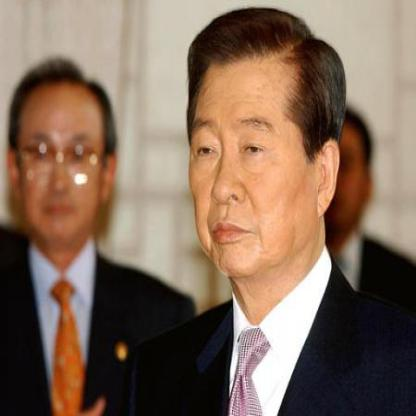face: (182, 24, 322, 287), (18, 73, 107, 248), (307, 111, 369, 232)
